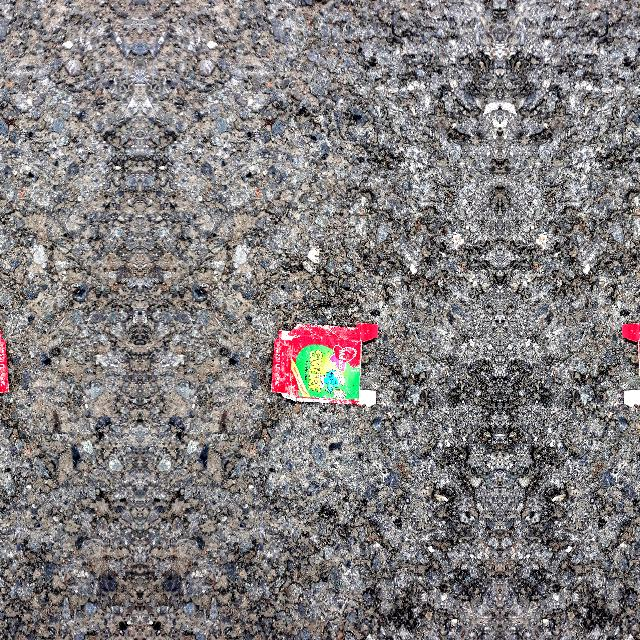Paper: (266, 320, 382, 408)
